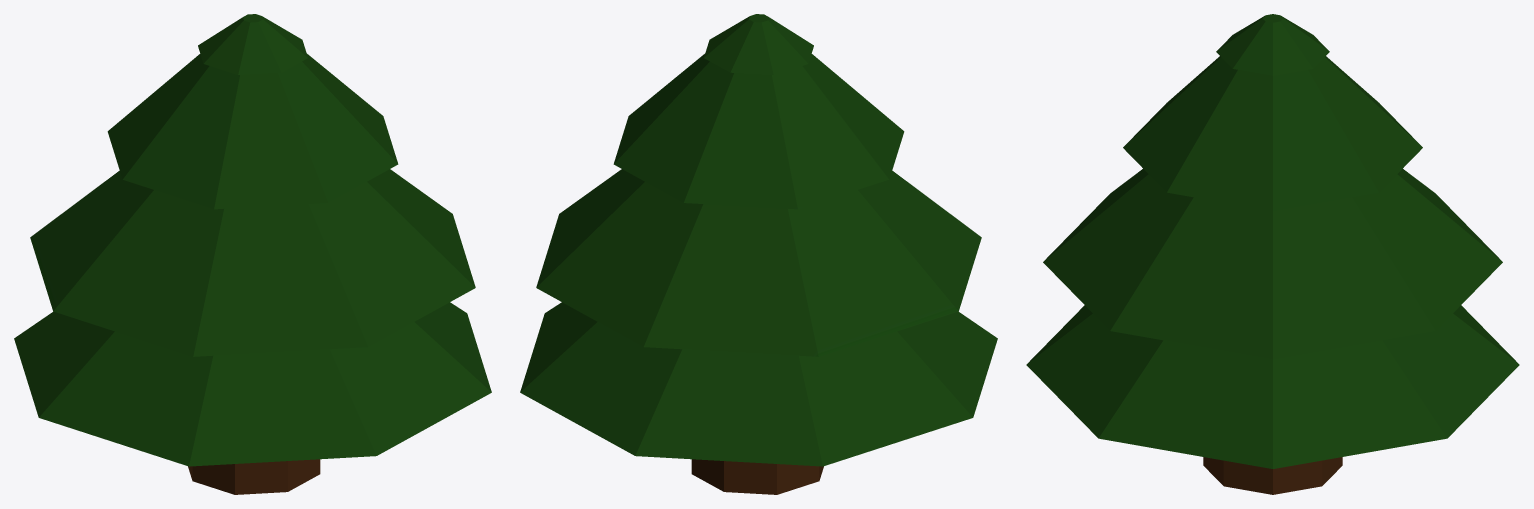
Rendered from Tree_Model.FBX.
3 views of the same model, side by side, from view 1: azimuth 30°, elevation 25°; view 2: azimuth 150°, elevation 25°; view 3: azimuth 270°, elevation 25° (orthographic).
Visible parts, largest first — view 1: Cylinder001; view 2: Cylinder001; view 3: Cylinder001.
Part boxes in pixels (<box>): Cylinder001: <box>14,14,491,494</box>; Cylinder001: <box>520,14,997,494</box>; Cylinder001: <box>1026,14,1519,494</box>.
Size of the model in its own units: 139 by 139 by 139.
1 material, 1 textured.
